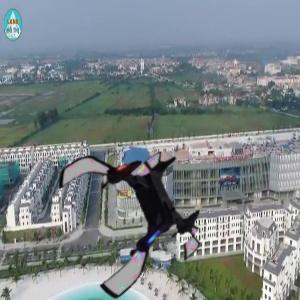drone: (51, 133, 208, 290)
